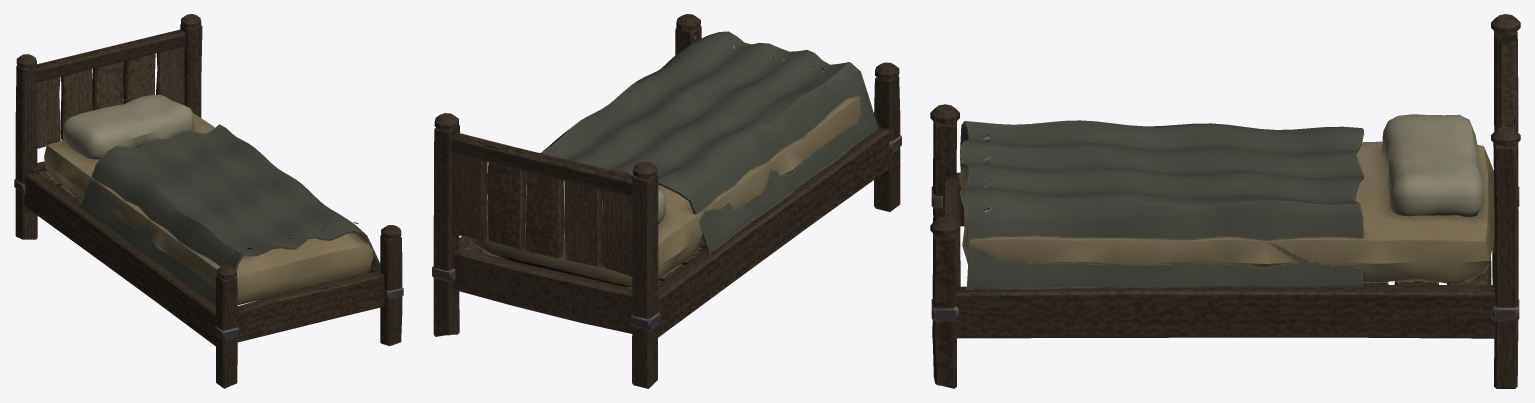
File: bed.glb
The picture shows the model from 3 angles, left to right: view 1: azimuth 30°, elevation 25°; view 2: azimuth 150°, elevation 25°; view 3: azimuth 270°, elevation 25°; orthographic projection. The views are drawn at different scales.
Parts seen in each view (by area): view 1: bed; view 2: bed; view 3: bed.
Part boxes in pixels (box(x1,y1,x2,y2)): bed: box(14, 14, 403, 388); bed: box(432, 14, 901, 388); bed: box(930, 14, 1520, 388).
Bounding box in the file's own units: 0.92 × 0.875 × 1.84.
Materials: 1 (1 with a texture image).
